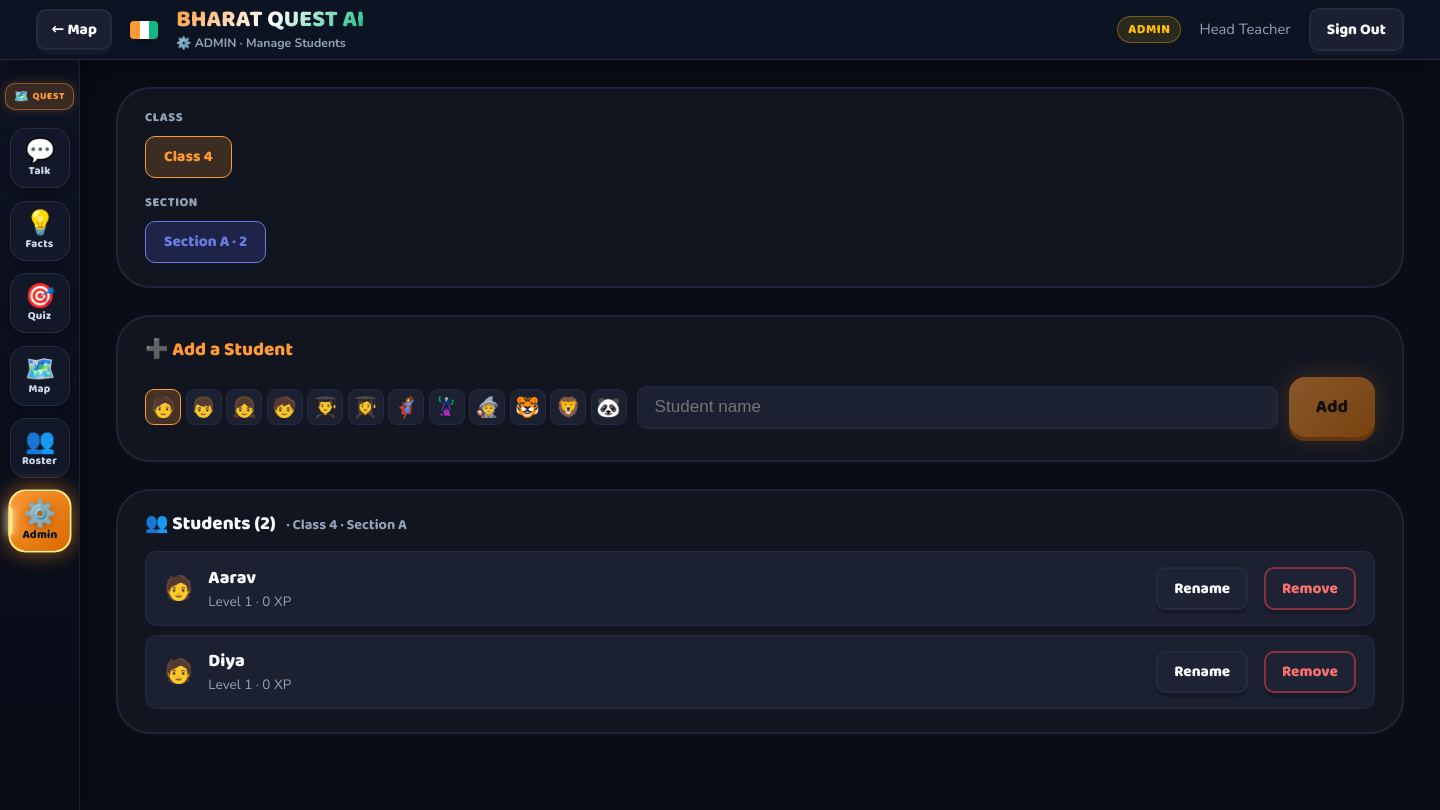
Test: AdminPage — draft staging › discards all staged changes
Expected: the text "Aarav" is shown, [208,564,256,592]
Type "Kabir" into the field with placeholder "Student name" at (958, 407), box [637,386,1278,429]
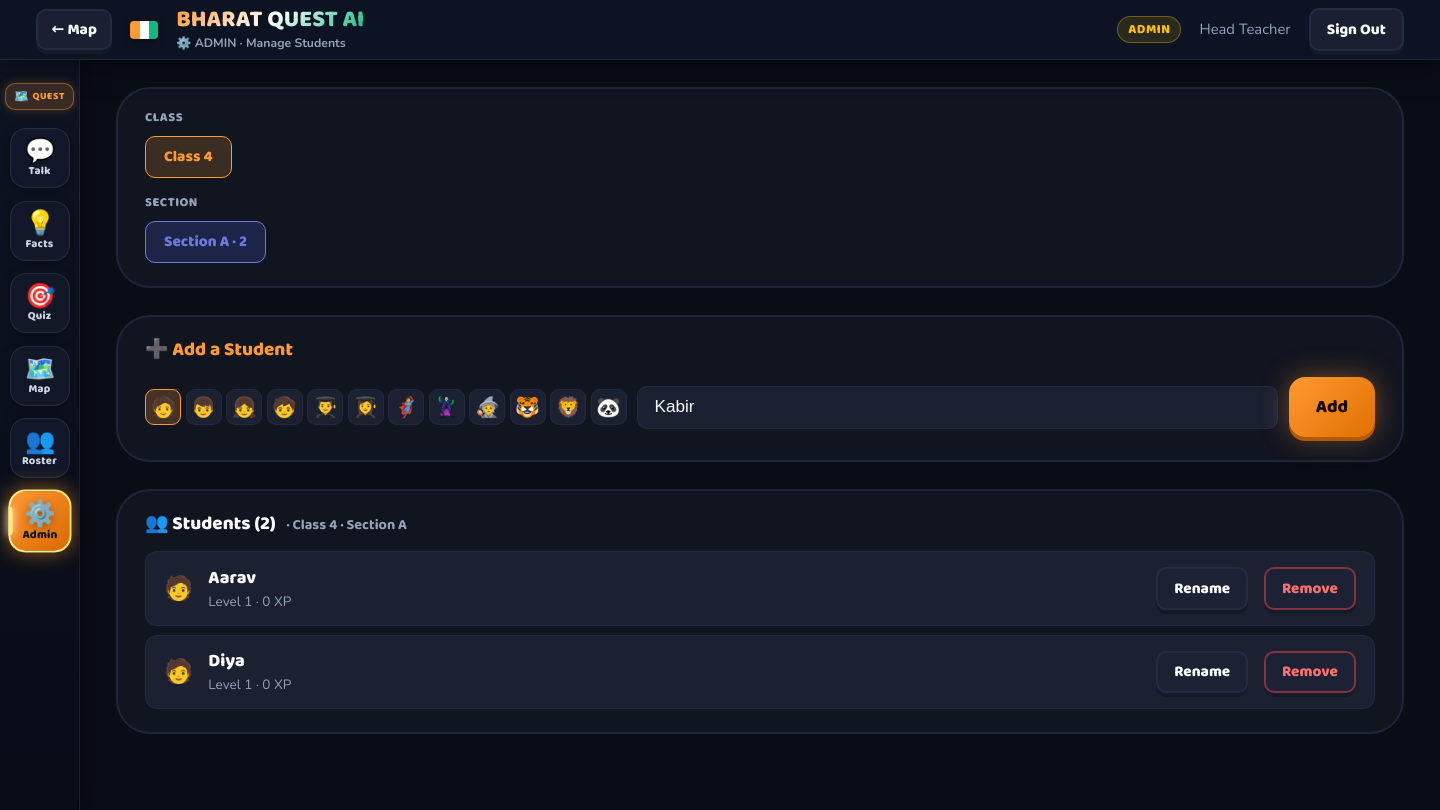
Click the button "Add" at (1332, 407), box [1289,377,1375,437]
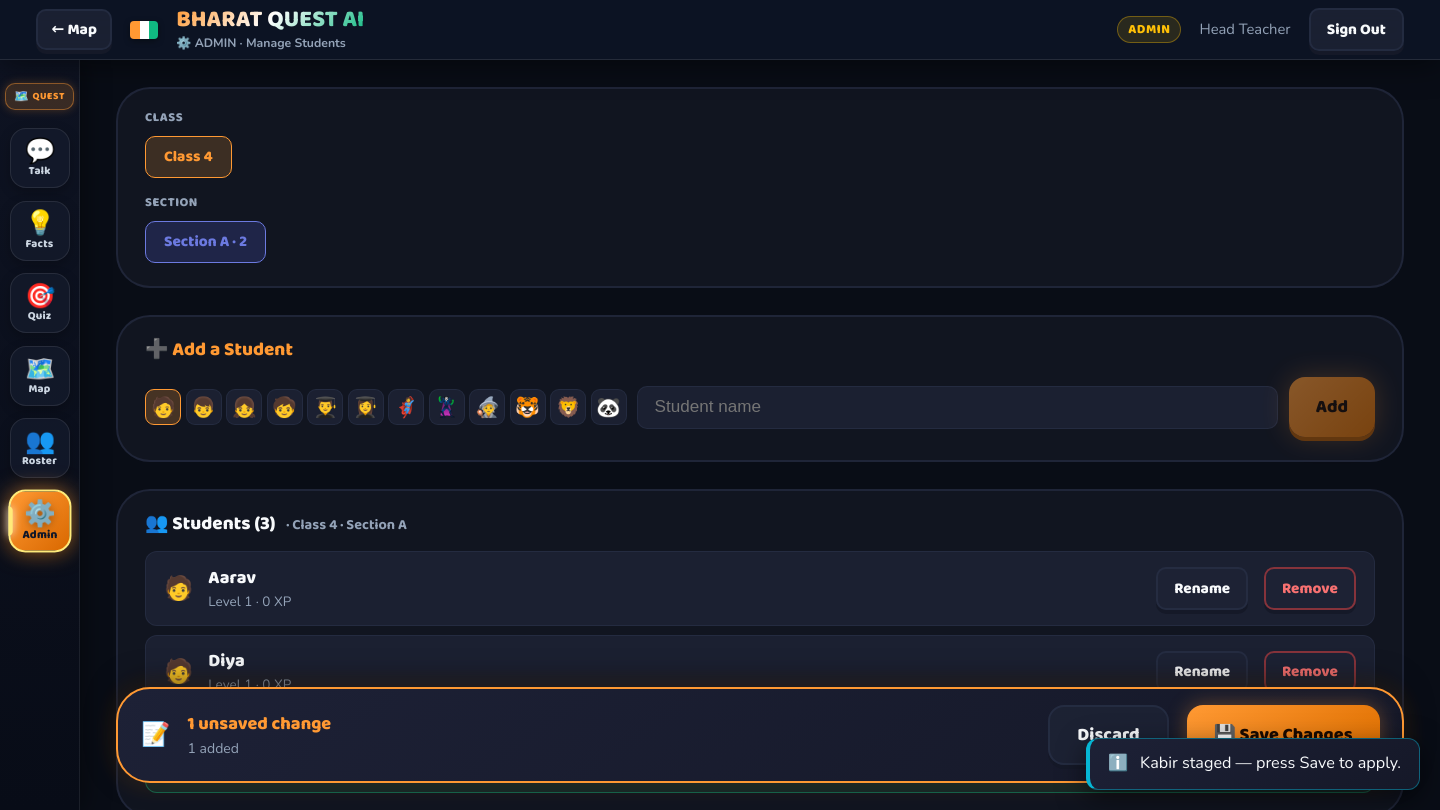
Expected: the text "1 unsaved change" is shown, [188,710,331,738]
Click the button "Discard" at (1108, 735), box [1048,705,1168,765]
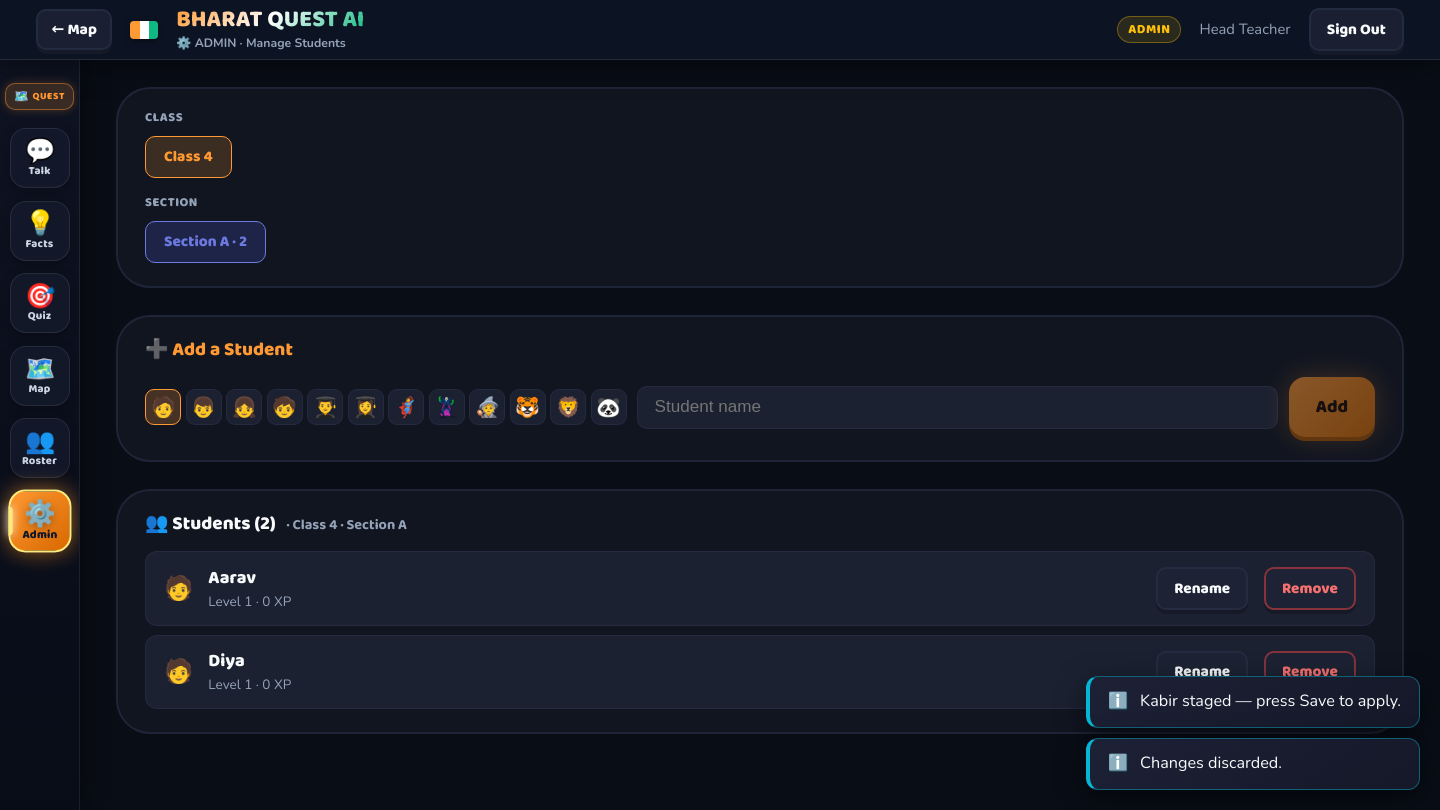
Expected: the text "unsaved change" is gone
